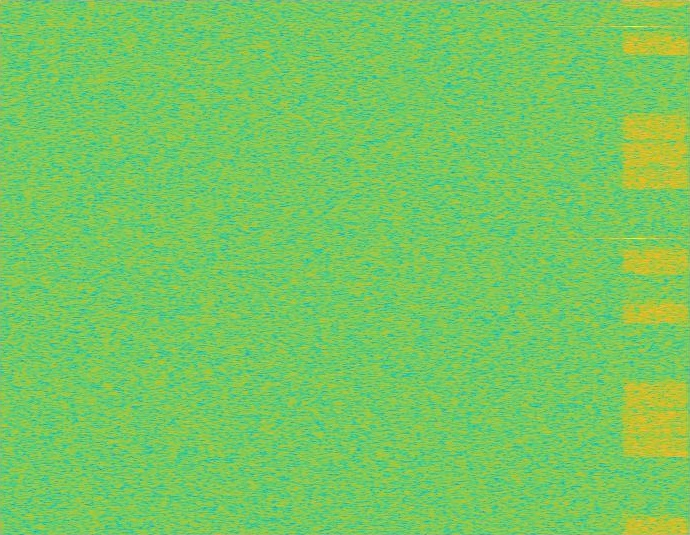LTE: (621, 0, 689, 534)
Radar: (628, 0, 641, 534)
